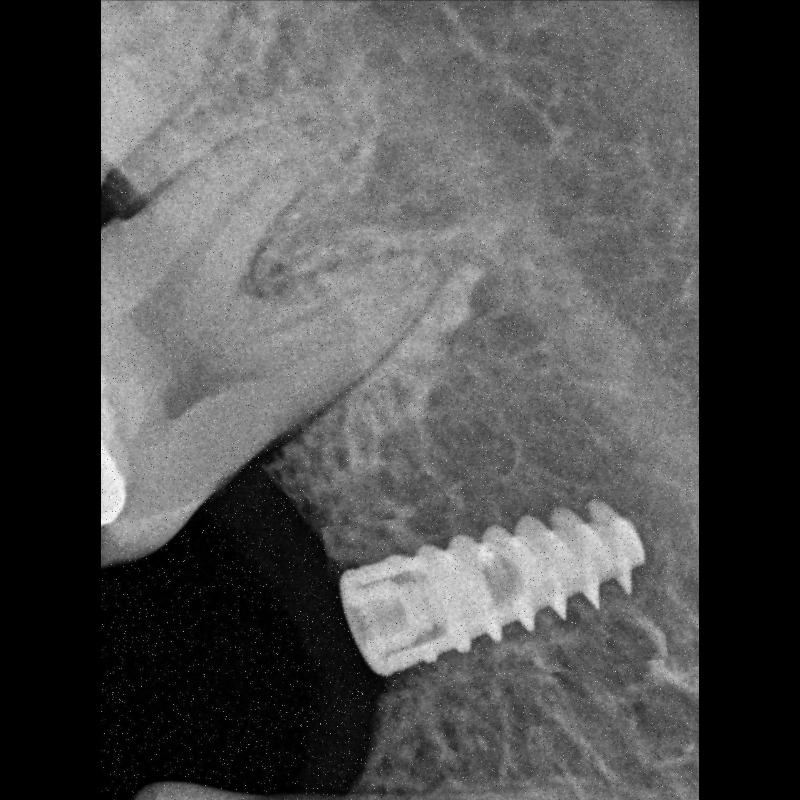ADIN: (327, 497, 663, 688)
